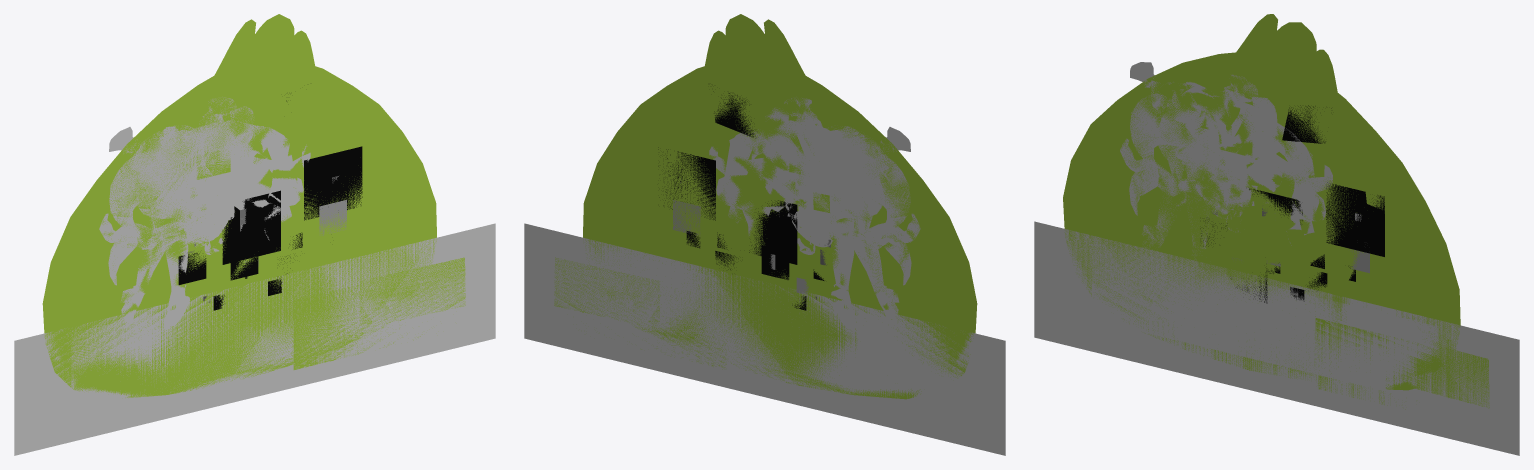
File: Skeleton Prefab Mesh _Eb_KingSlime_02_.glb
3 renders of one model, left to right at view 1: azimuth 30°, elevation 25°; view 2: azimuth 150°, elevation 25°; view 3: azimuth 330°, elevation 25°, orthographic.
Parts seen in each view (by area): view 1: Skeleton Prefab Mesh "Eb_KingSlime_02"; view 2: Skeleton Prefab Mesh "Eb_KingSlime_02"; view 3: Skeleton Prefab Mesh "Eb_KingSlime_02".
Part boxes in pixels (x1=…): Skeleton Prefab Mesh "Eb_KingSlime_02": x1=14, y1=14, x2=495, y2=455; Skeleton Prefab Mesh "Eb_KingSlime_02": x1=524, y1=14, x2=1005, y2=455; Skeleton Prefab Mesh "Eb_KingSlime_02": x1=1034, y1=14, x2=1519, y2=455.
Size of the model in its own units: 5.03 by 3.78 by 0.
